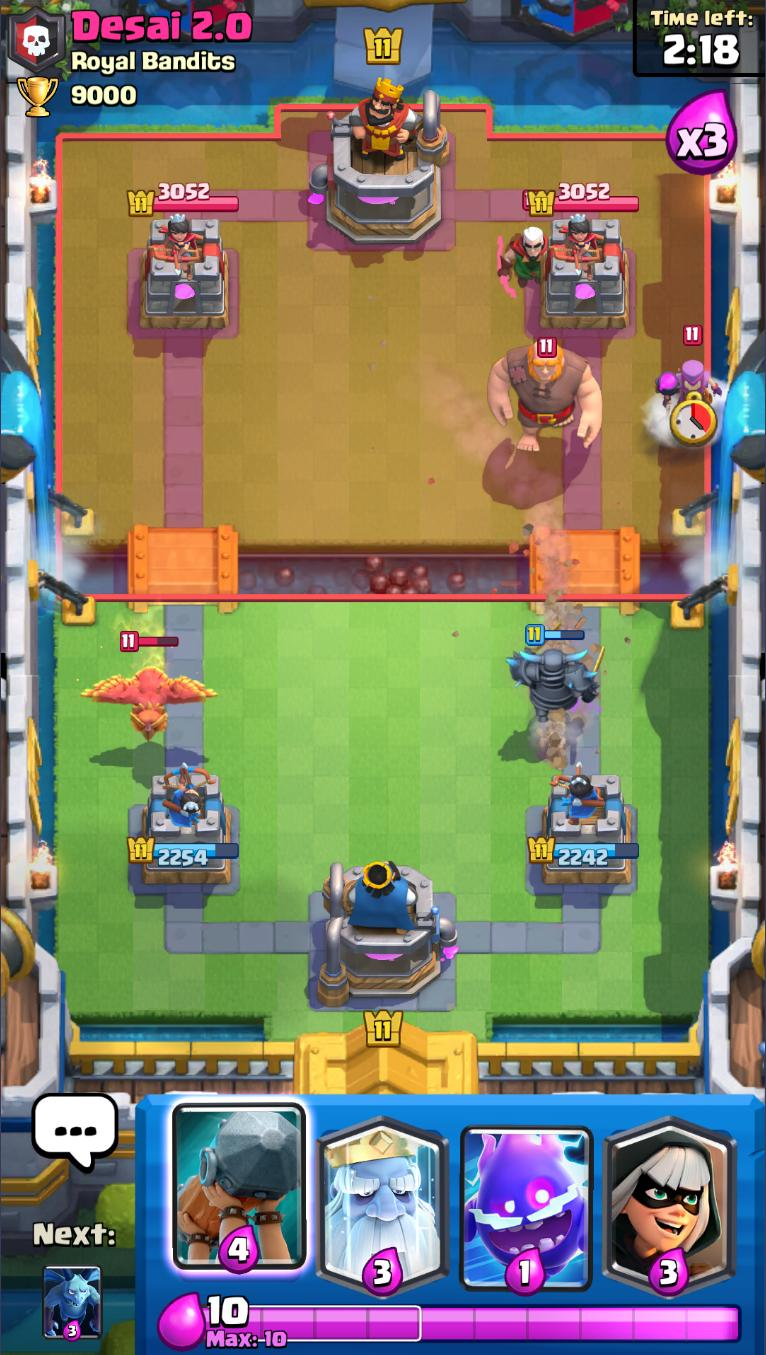BanditDeck: (597, 1094, 741, 1299)
BattleRamDeck: (166, 1096, 311, 1294)
ElectroSpiritDeck: (454, 1096, 600, 1296)
Elixir: (203, 1294, 744, 1351)
EnemyTower: (136, 214, 234, 334), (539, 214, 633, 333)
Giant: (487, 336, 604, 456)
KingTower: (309, 79, 454, 250)
MagicArcher: (493, 187, 554, 297)
MinionsNext: (41, 1264, 103, 1343)
MyKingTower: (314, 859, 460, 1011)
MyPekka: (504, 623, 604, 726)
MyPrincessTower: (124, 770, 240, 893), (527, 771, 641, 889)
MyPrincessTowerHP: (124, 834, 241, 867), (526, 834, 641, 866)
Phoenix: (76, 597, 217, 710)
PrincessTower: (147, 217, 206, 266), (550, 217, 604, 266)
RoyaleGhostDeck: (313, 1099, 451, 1297)
TowerPrincessHP: (127, 181, 240, 217), (530, 183, 641, 217)
